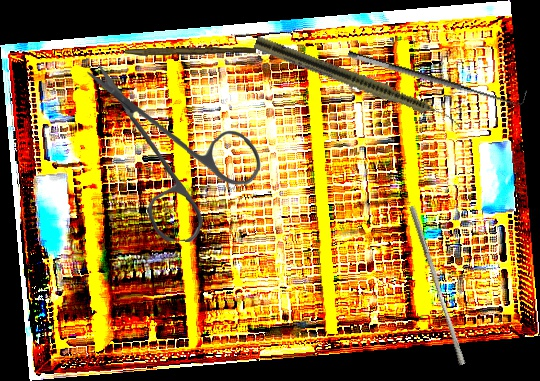Handpiece: (252, 34, 466, 132)
Hook Surgical: (346, 36, 528, 113)
Iris Scissors: (81, 64, 264, 245)
Pusher: (402, 205, 472, 366)
Scalpel Handle: (124, 44, 257, 59)
